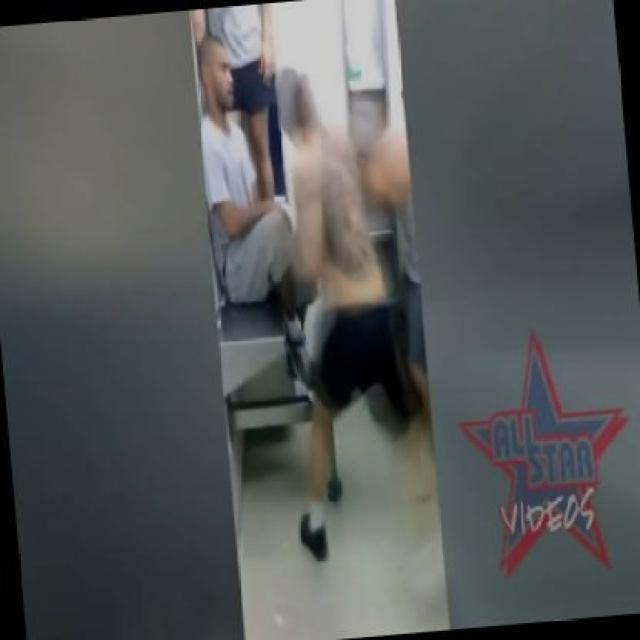fight: (187, 5, 458, 577)
